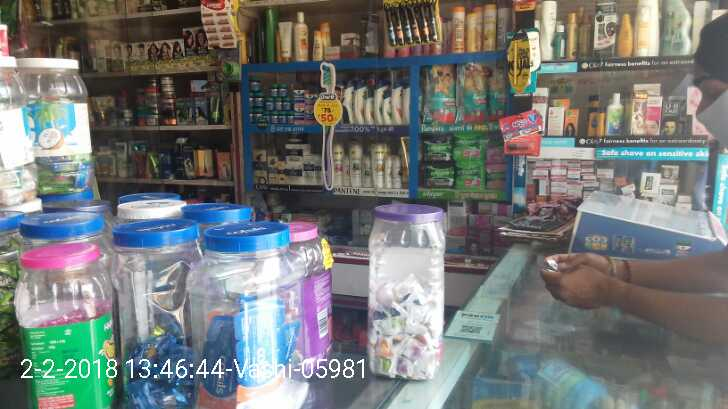beauty: (329, 143, 349, 189), (349, 144, 364, 195), (372, 142, 386, 195), (250, 146, 267, 188), (286, 163, 306, 188), (390, 155, 403, 189), (287, 143, 305, 164)
pharmacy: (423, 64, 456, 123), (459, 66, 488, 121), (454, 133, 485, 162), (420, 135, 453, 160), (454, 164, 487, 189), (423, 163, 454, 187), (487, 162, 508, 189), (249, 78, 261, 95), (278, 84, 289, 100), (269, 84, 278, 98), (254, 97, 265, 108)
